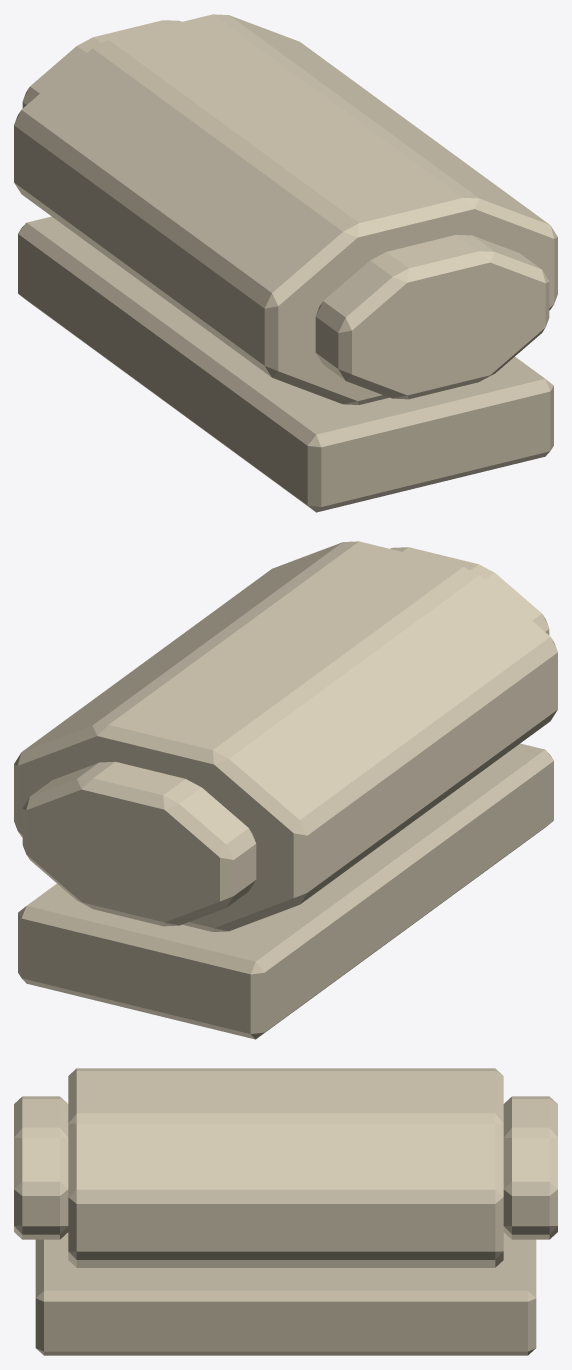
File: tank_drum_hull_light.glb
The picture shows the model from 3 angles, top to bottom: view 1: azimuth 30°, elevation 25°; view 2: azimuth 150°, elevation 25°; view 3: azimuth 270°, elevation 25°; orthographic projection. The views are drawn at different scales.
Parts seen in each view (by area): view 1: tank_drum_hull_light; view 2: tank_drum_hull_light; view 3: tank_drum_hull_light.
Boxes of the visible parts, bbox=[...] form: tank_drum_hull_light: bbox=[14, 14, 557, 512]; tank_drum_hull_light: bbox=[14, 541, 557, 1039]; tank_drum_hull_light: bbox=[14, 1068, 557, 1355].
Size of the model in its own units: 2.6 by 2.2 by 5.
